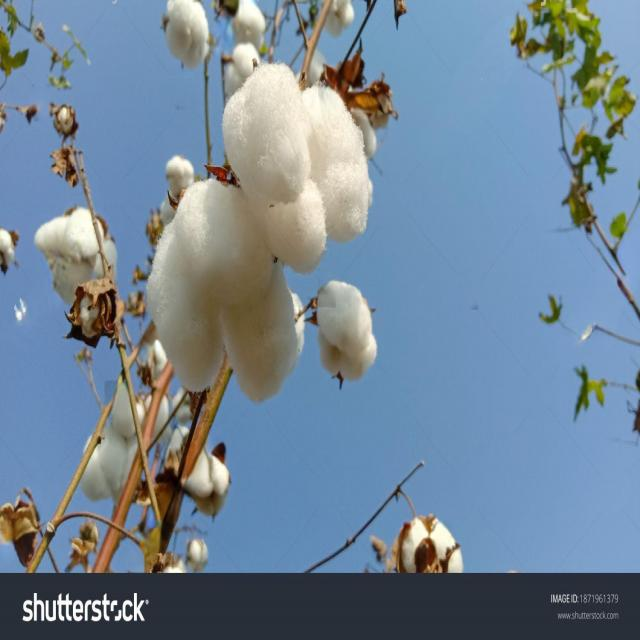Leaf: (135, 156, 314, 421), (217, 43, 381, 281), (75, 368, 179, 514), (31, 190, 125, 349), (310, 272, 385, 395), (378, 497, 471, 579), (147, 0, 221, 84)
